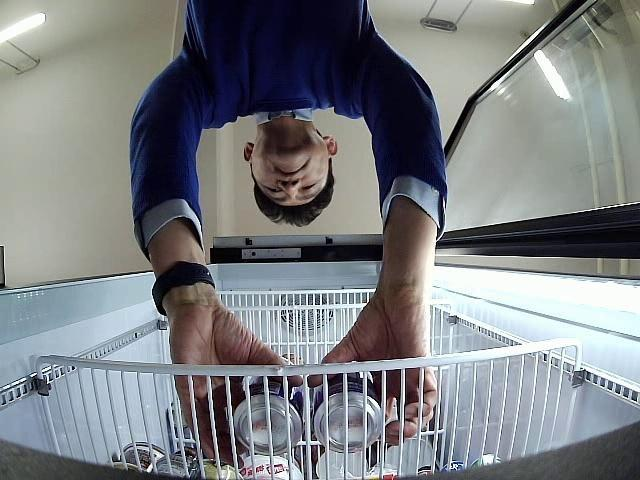14_welchsGrape: (314, 372, 382, 453), (235, 376, 302, 455)
